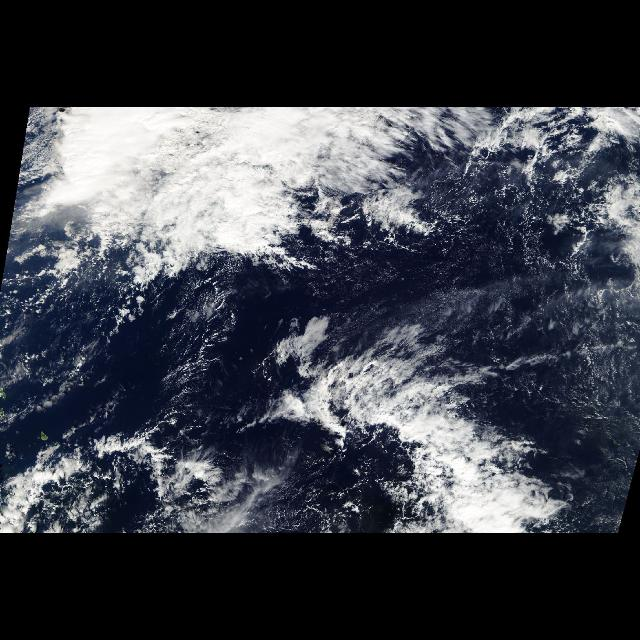Fish: (243, 304, 582, 524)
Sugar: (460, 261, 640, 441), (154, 280, 232, 442)
